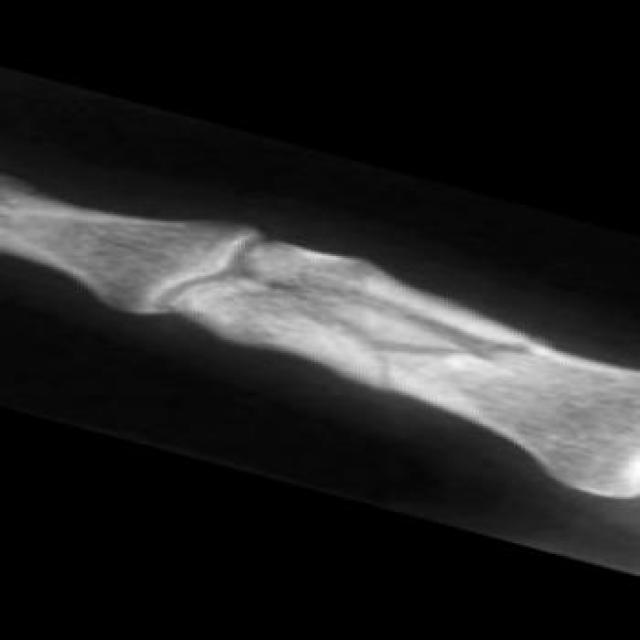Fracture: (315, 296, 544, 404)
